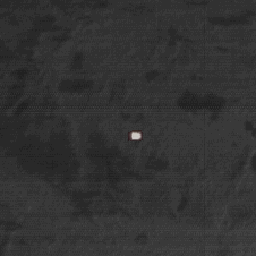Target: (129, 130, 142, 139)
